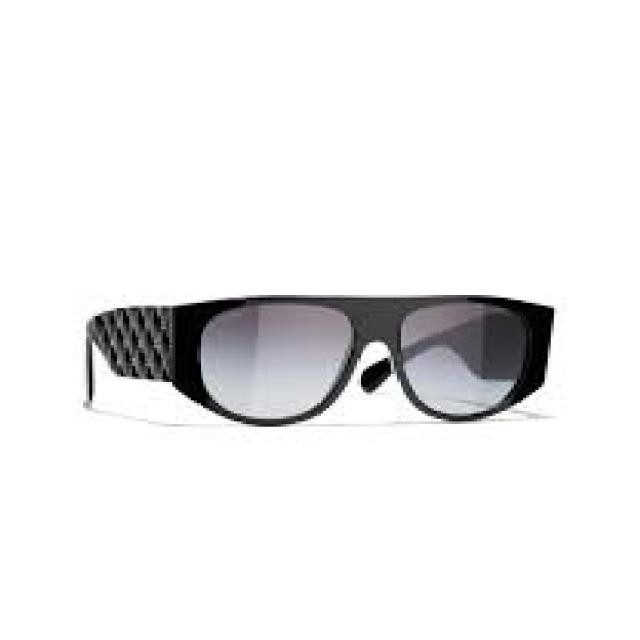suspicious-objects: (166, 287, 563, 429)
